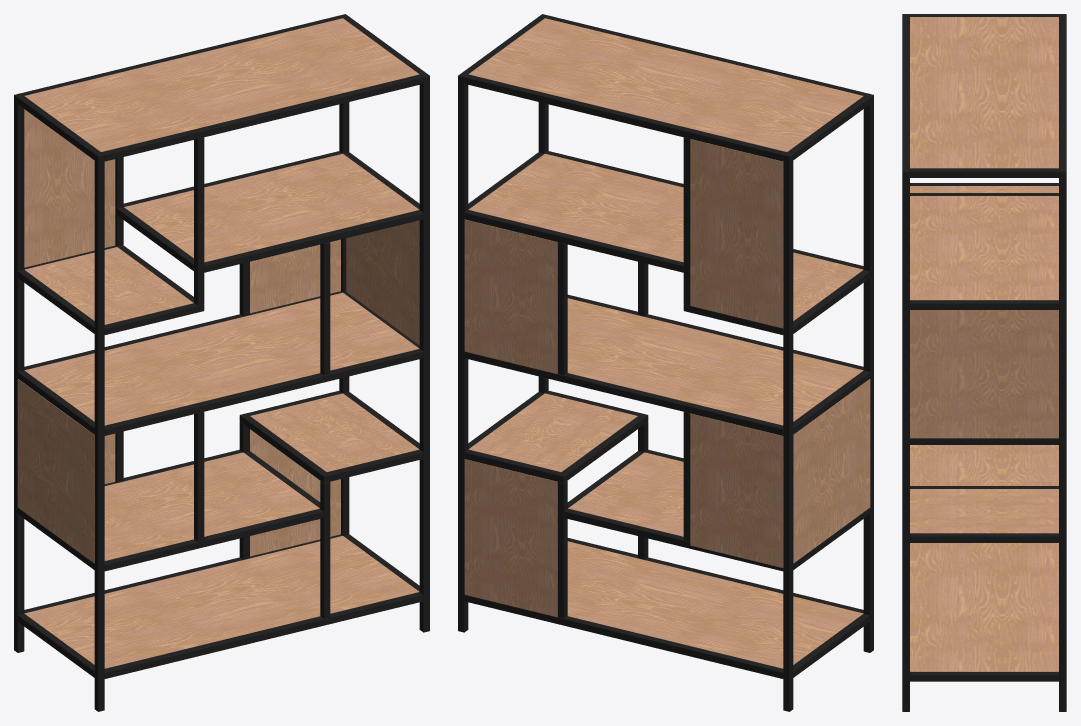
Rendered from dlX - Livetastic Shelf.fbx.
3 views of the same model, side by side, from view 1: azimuth 30°, elevation 25°; view 2: azimuth 150°, elevation 25°; view 3: azimuth 270°, elevation 25° (orthographic). The views are drawn at different scales.
Visible parts, largest first — view 1: woods, Frame; view 2: woods, Frame; view 3: woods, Frame.
Part boxes in pixels (x1,y1,x2,y2): woods: (17,18,419,668); Frame: (14,14,429,711); woods: (464,18,870,668); Frame: (458,14,873,711); woods: (910,17,1058,671); Frame: (902,14,1066,711).
Size of the model in its own units: 100 by 160 by 44.
